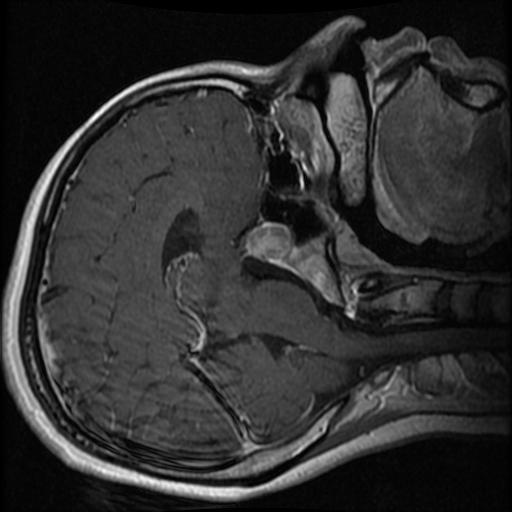pituitary tumour: (245, 222, 291, 262)
